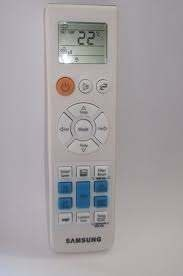remote control: (39, 0, 121, 256)
